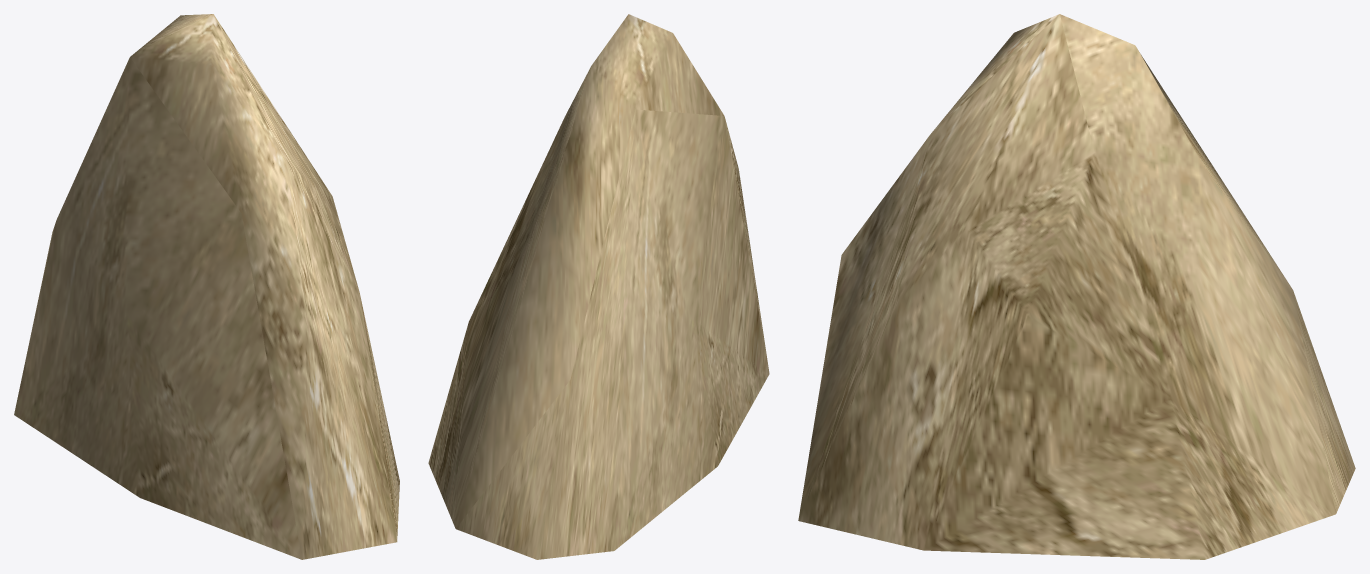
Rendered from geo_desert_08.dae.
3 renders of one model, left to right at view 1: azimuth 30°, elevation 25°; view 2: azimuth 150°, elevation 25°; view 3: azimuth 270°, elevation 25°, orthographic. The views are drawn at different scales.
Visible parts, largest first — view 1: desert_rock_08-Pivot; view 2: desert_rock_08-Pivot; view 3: desert_rock_08-Pivot.
Boxes of the visible parts, box(x1,y1,x2,y2) form: desert_rock_08-Pivot: box(14, 14, 399, 559); desert_rock_08-Pivot: box(428, 14, 769, 559); desert_rock_08-Pivot: box(798, 14, 1355, 559).
Bounding box in the file's own units: 3.89 × 7.7 × 7.34.
